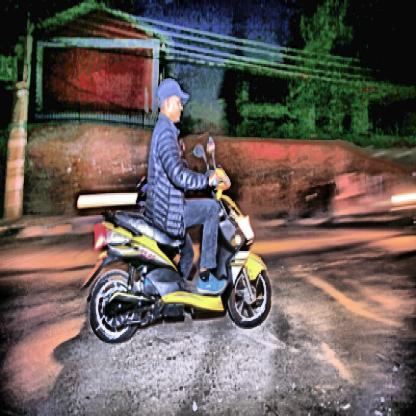not_wear: (158, 81, 186, 127)
